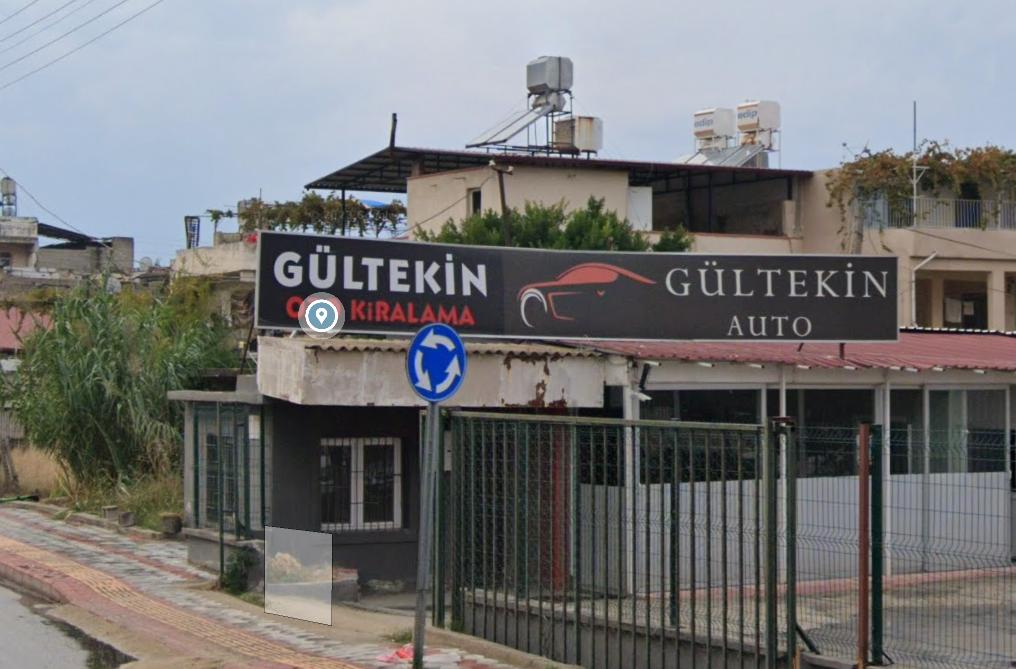crossroads: (405, 325, 465, 401)
